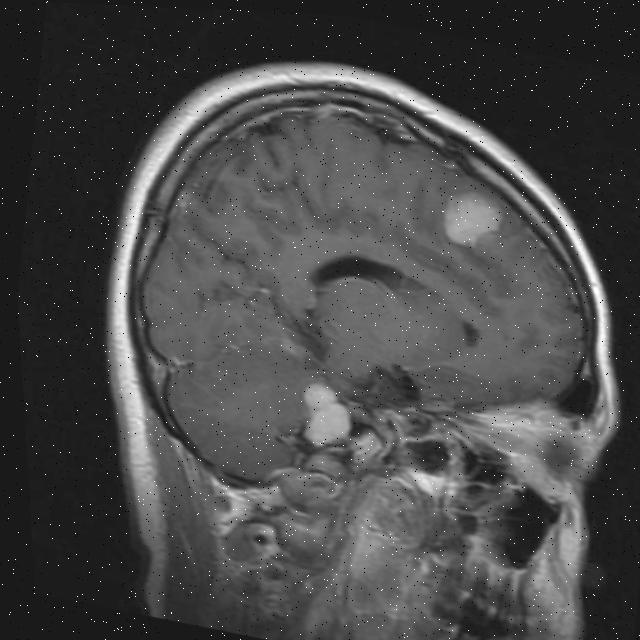Meningioma: (434, 184, 509, 256), (293, 379, 361, 455)
